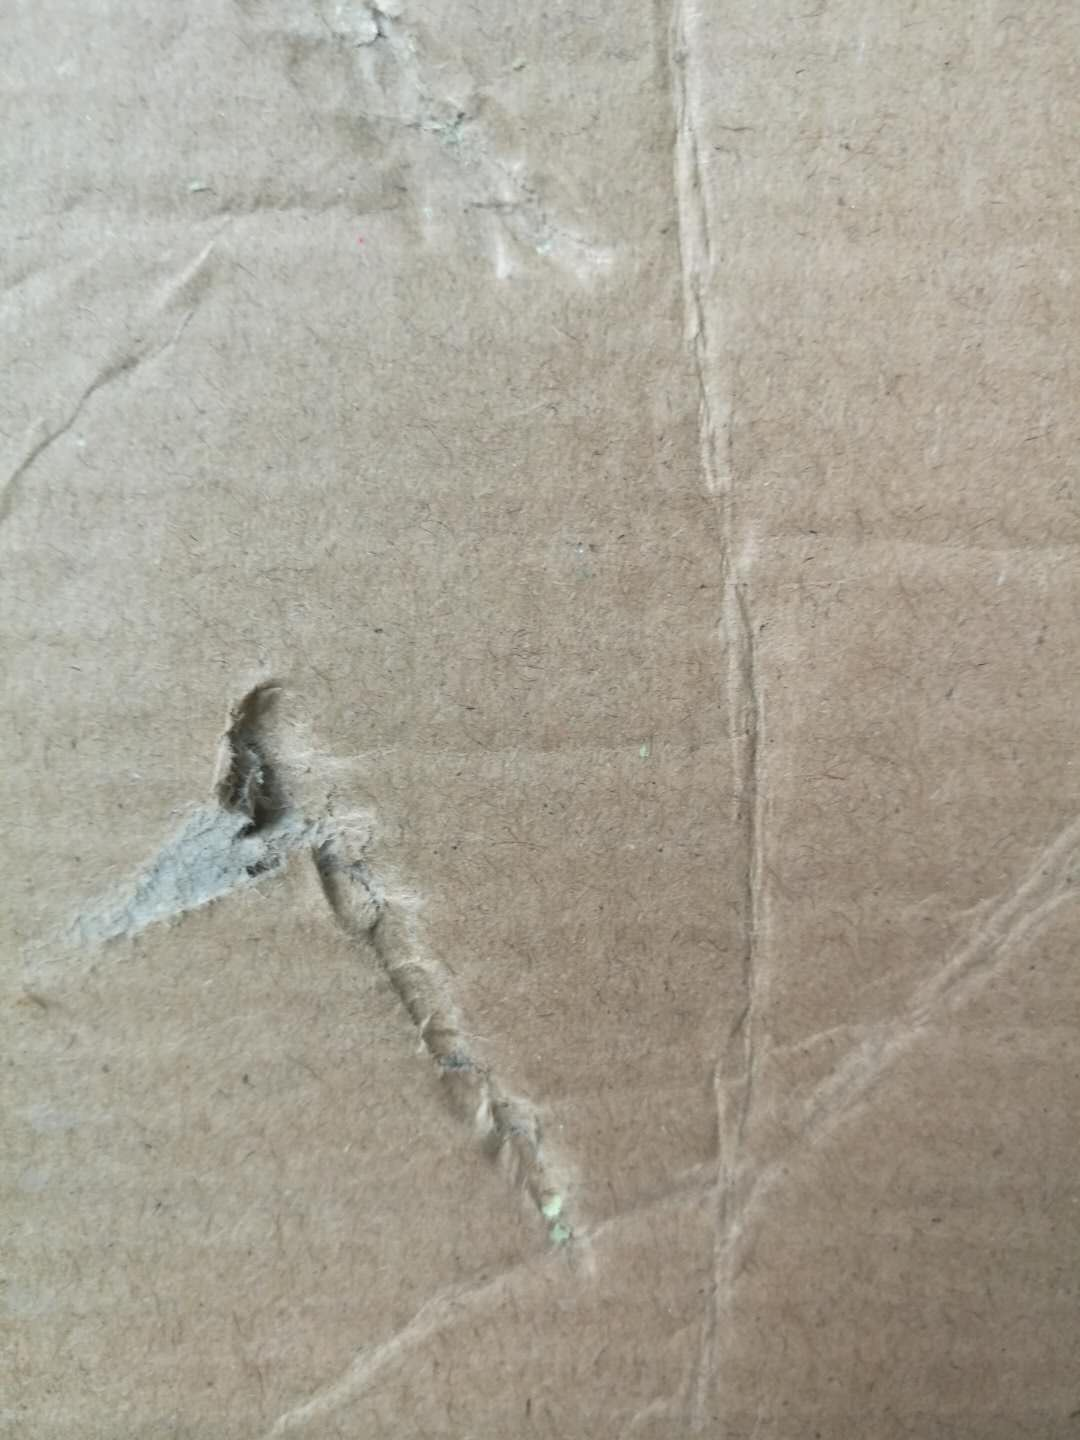defect: (212, 793, 1080, 1435), (8, 601, 660, 1312), (608, 1, 891, 1440), (3, 5, 666, 554)
